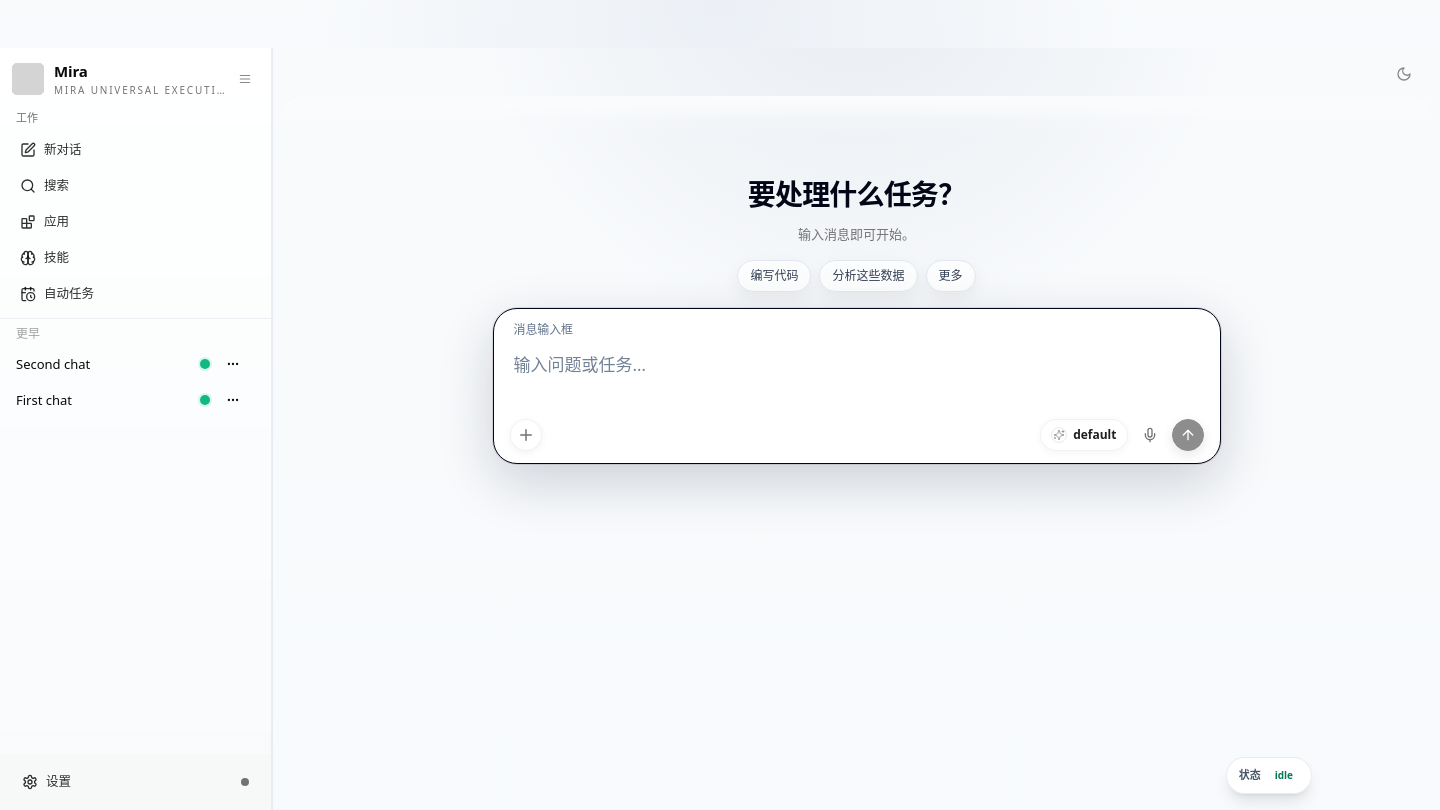
Test: App layout › shows localized bound automations in the first delete confirmation
Expected: the button "First chat" is shown, [16, 384, 189, 416]
Press the mouse on the button named "“First chat” 的执行操作" at (233, 400), box [221, 388, 245, 412]
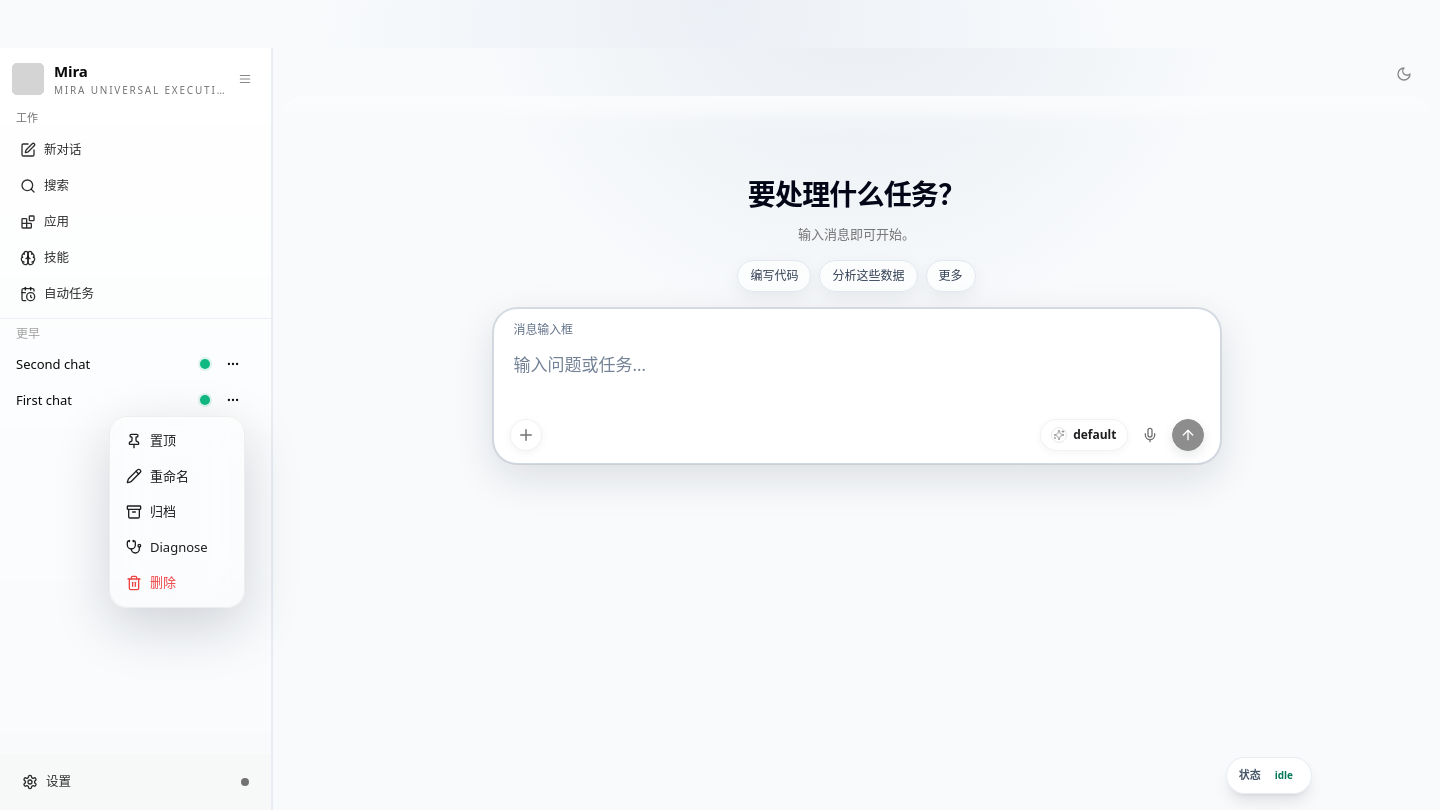
Click the menu item "删除". click: click(151, 582)
box: [126, 573, 176, 591]
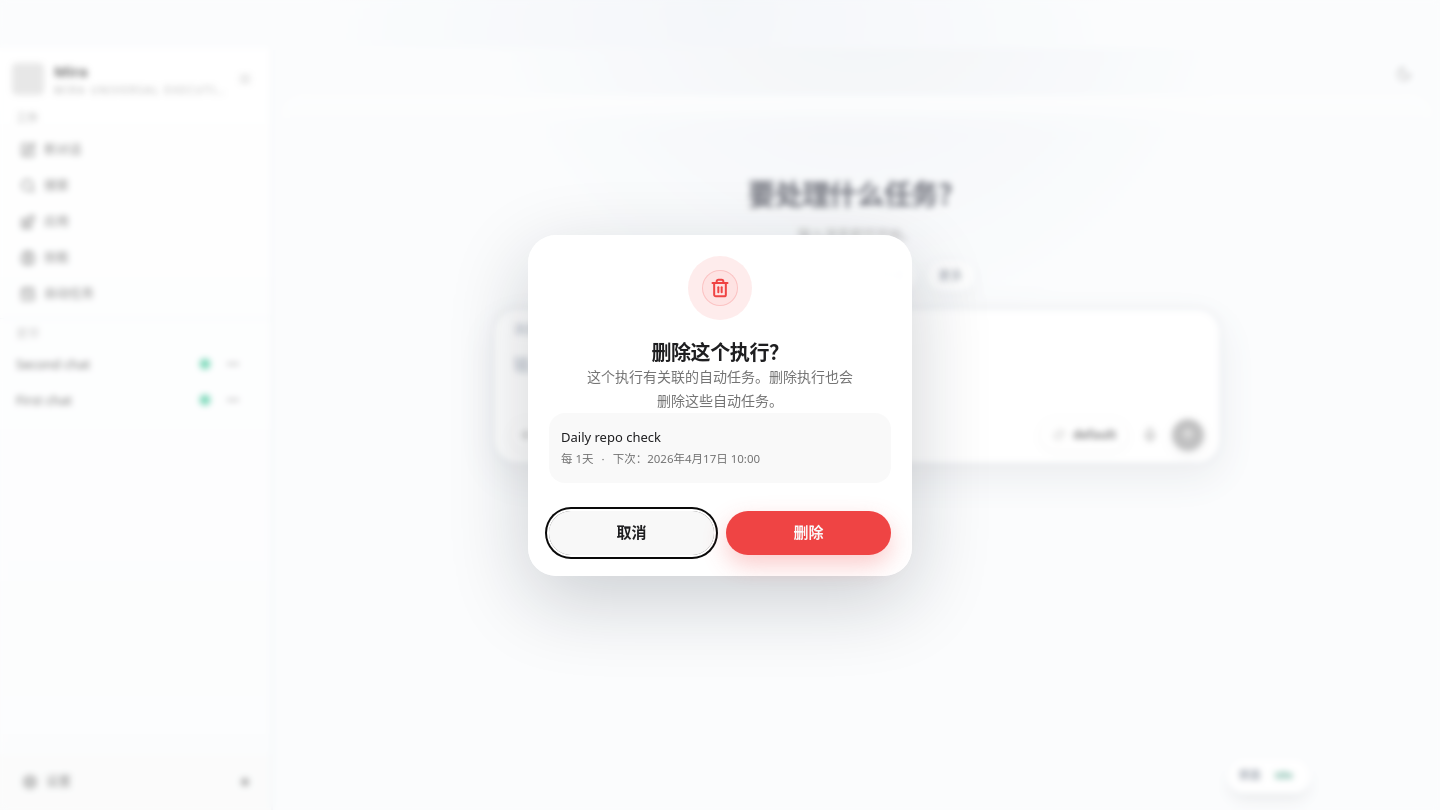
Result: the text "Daily repo check" is shown at [561, 428, 661, 446]
Result: the text "这个执行有关联的自动任务。删除执行也会删除这些自动任务。" is shown at [584, 364, 856, 412]
Click the button "删除". click: click(808, 532)
box: [726, 510, 891, 554]
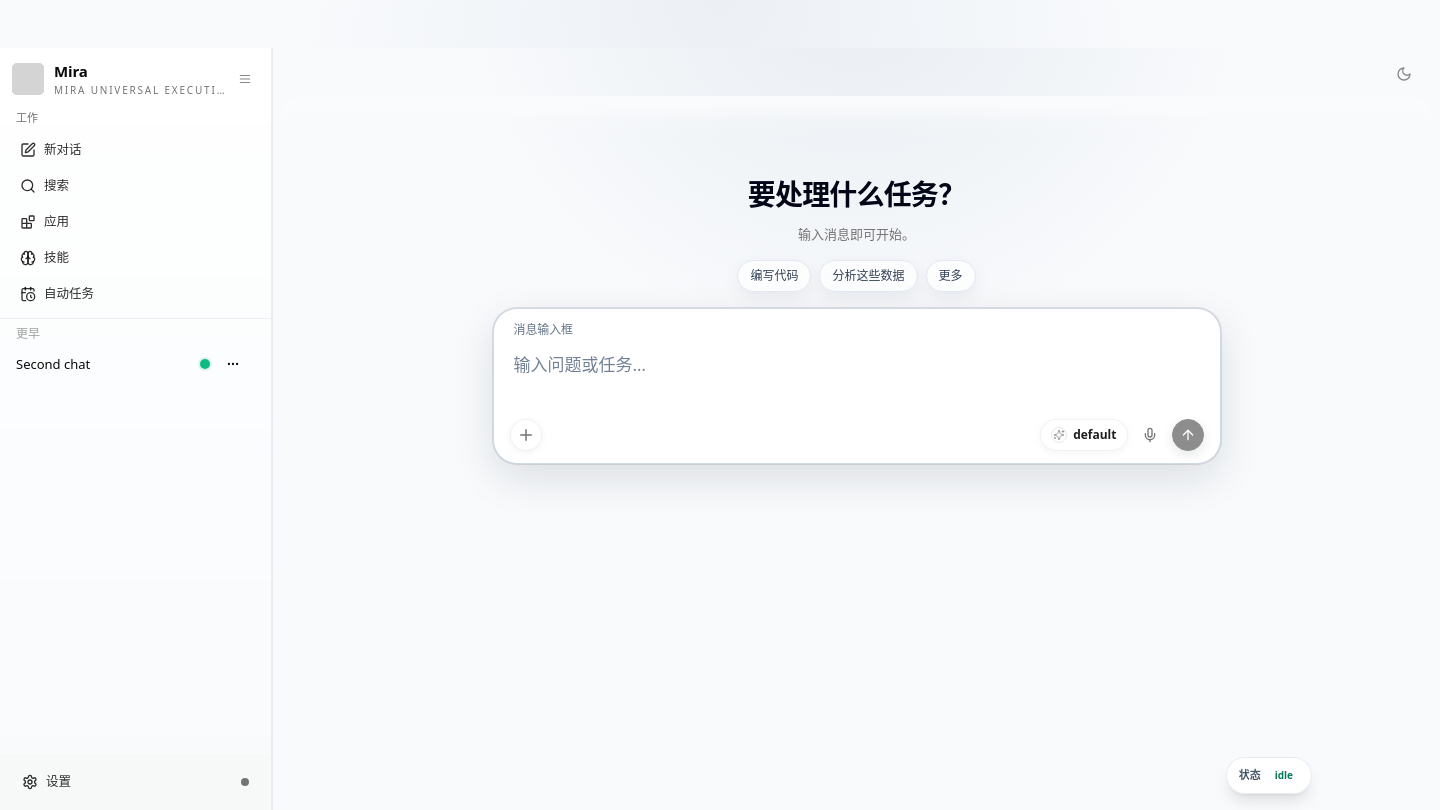
Result: the text "Daily repo check" is gone
